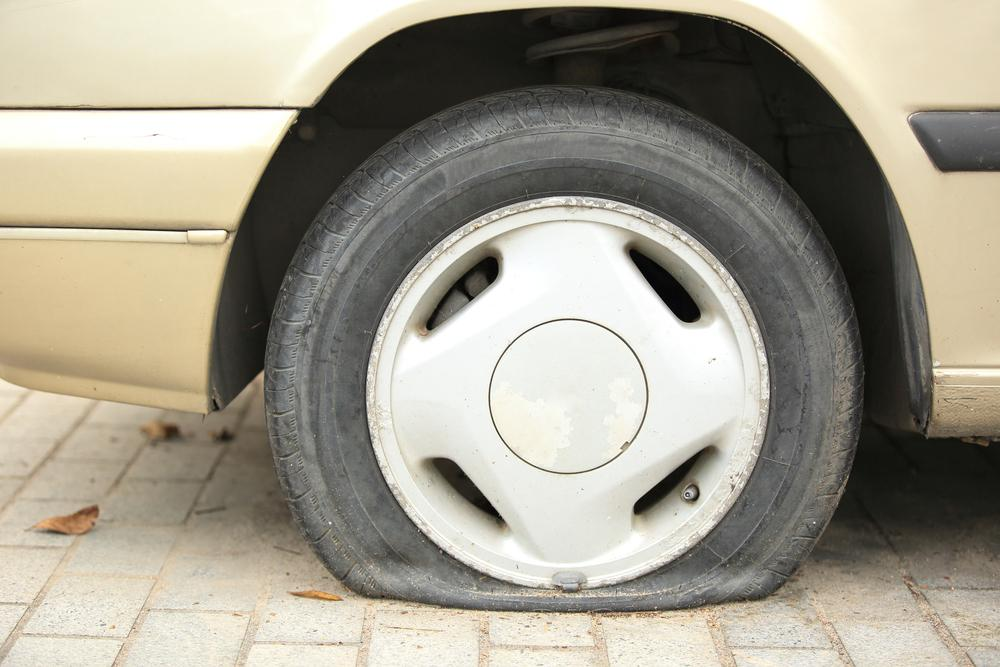tire flat: (260, 85, 866, 612)
